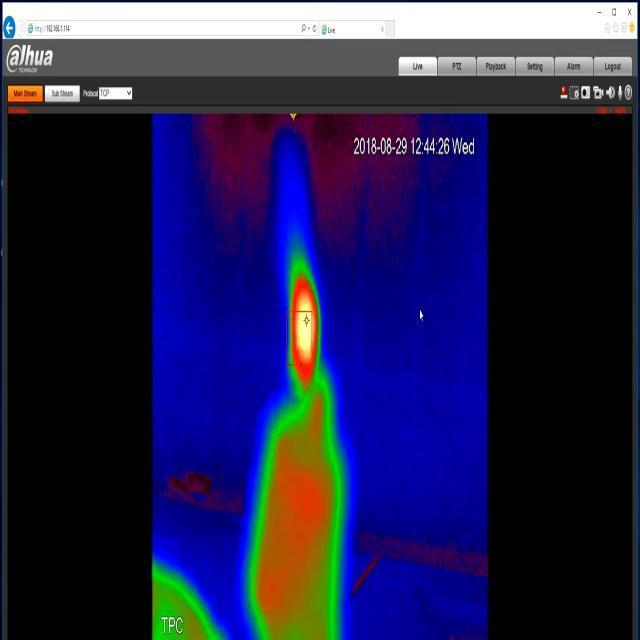fire: (289, 252, 324, 394)
